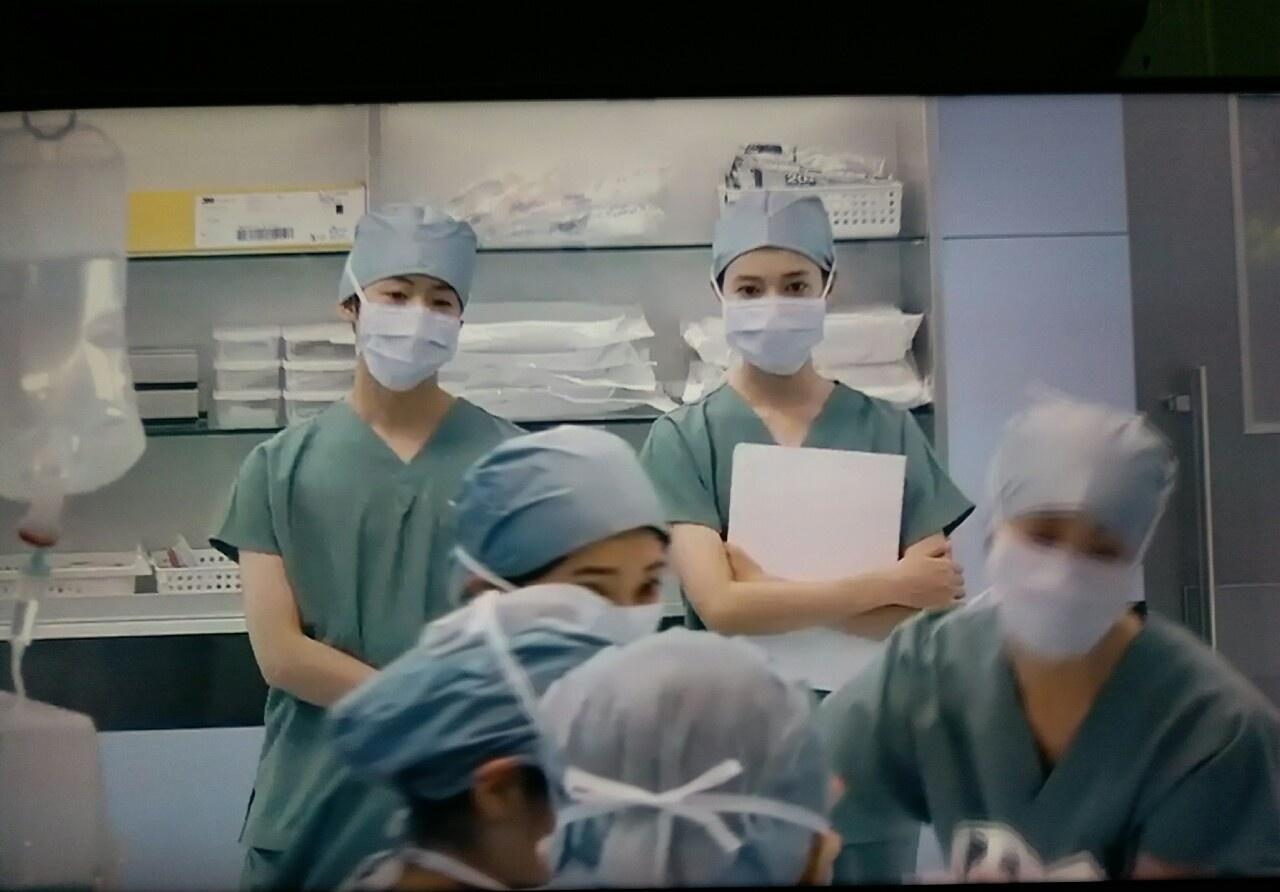OK: (505, 545, 670, 687), (994, 509, 1143, 663), (351, 266, 475, 390), (719, 257, 833, 371)
